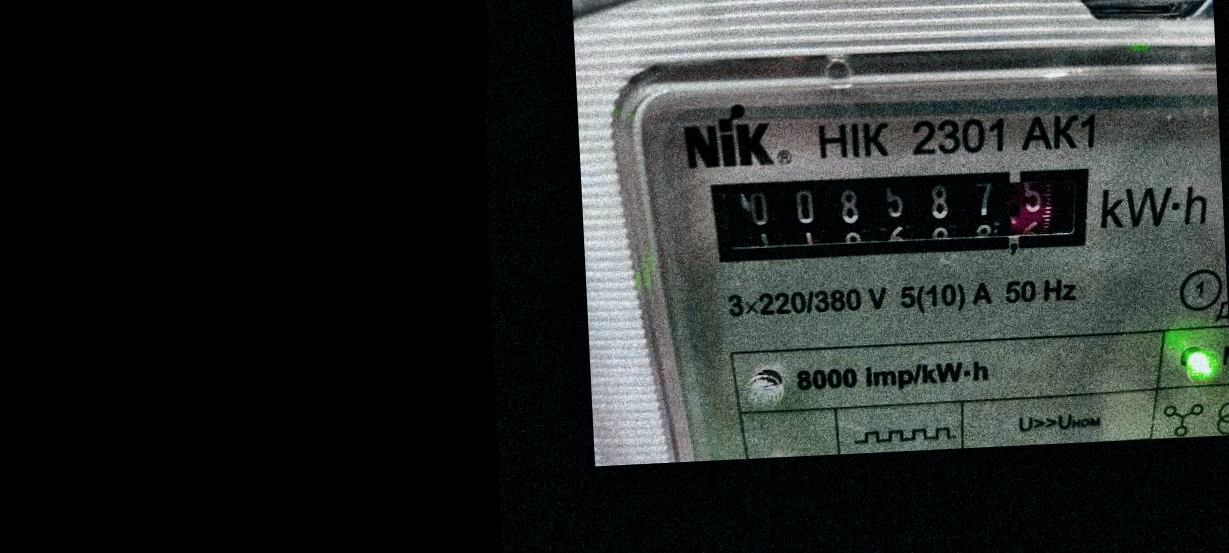0: (791, 185, 817, 226)
1: (745, 187, 771, 229)
5: (1020, 174, 1046, 216), (882, 181, 907, 220)
7: (971, 178, 996, 220)
8: (835, 184, 862, 227), (927, 180, 950, 222)
screen: (689, 145, 1113, 285)
